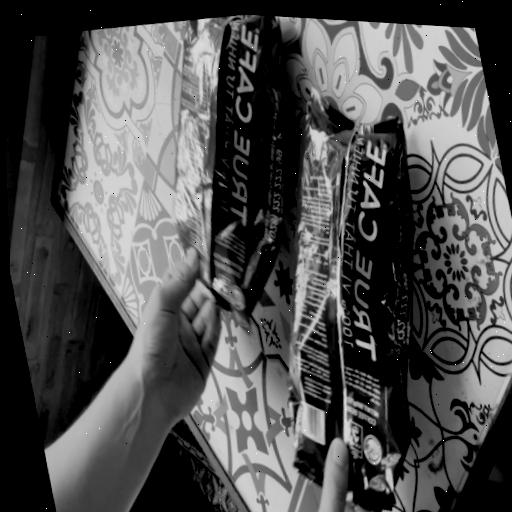cafe_hat: (288, 89, 413, 508)
cafe_xay: (172, 14, 286, 331)
